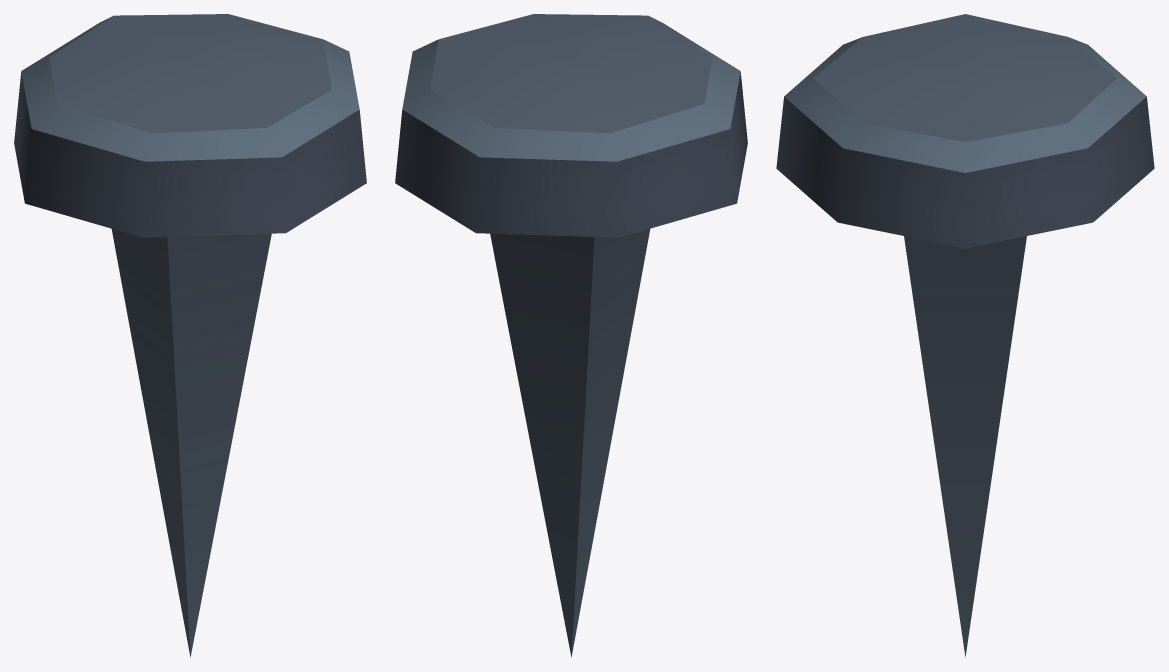
File: Nail_A.glb
The picture shows the model from 3 angles, left to right: view 1: azimuth 30°, elevation 25°; view 2: azimuth 150°, elevation 25°; view 3: azimuth 270°, elevation 25°; orthographic projection.
Parts seen in each view (by area): view 1: Nail_A; view 2: Nail_A; view 3: Nail_A.
Part boxes in pixels (x1=…): Nail_A: x1=14, y1=14, x2=366, y2=657; Nail_A: x1=395, y1=14, x2=747, y2=657; Nail_A: x1=776, y1=14, x2=1154, y2=657.
Bounding box in the file's own units: 0.0888 × 0.1548 × 0.0888.
1 material, 1 textured.
